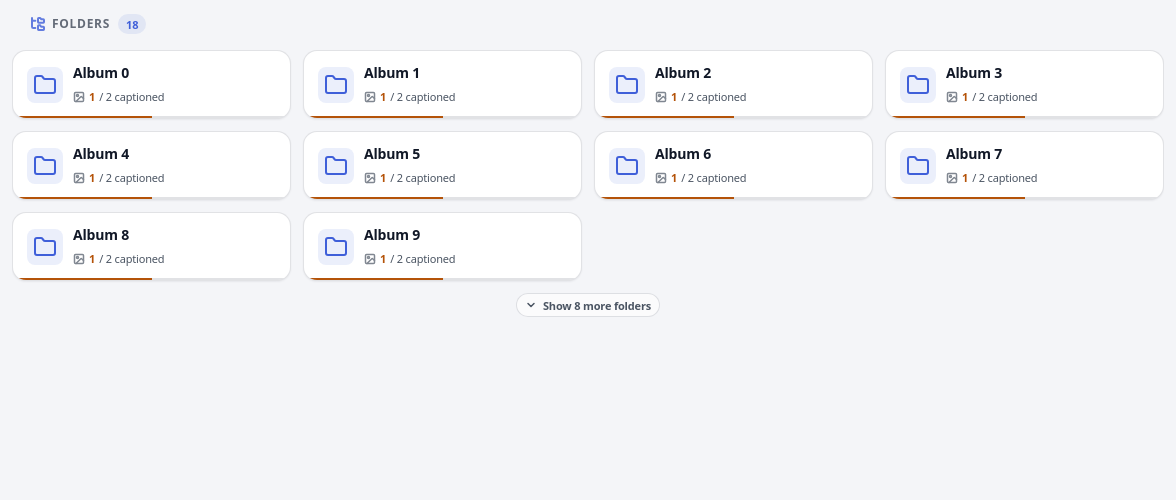
FolderGrid expansion memory › still expands for a caller that names no folder
The image size is (1176, 500).
Click the button "Show 8 more folders": (588, 305) [516, 293, 660, 317]
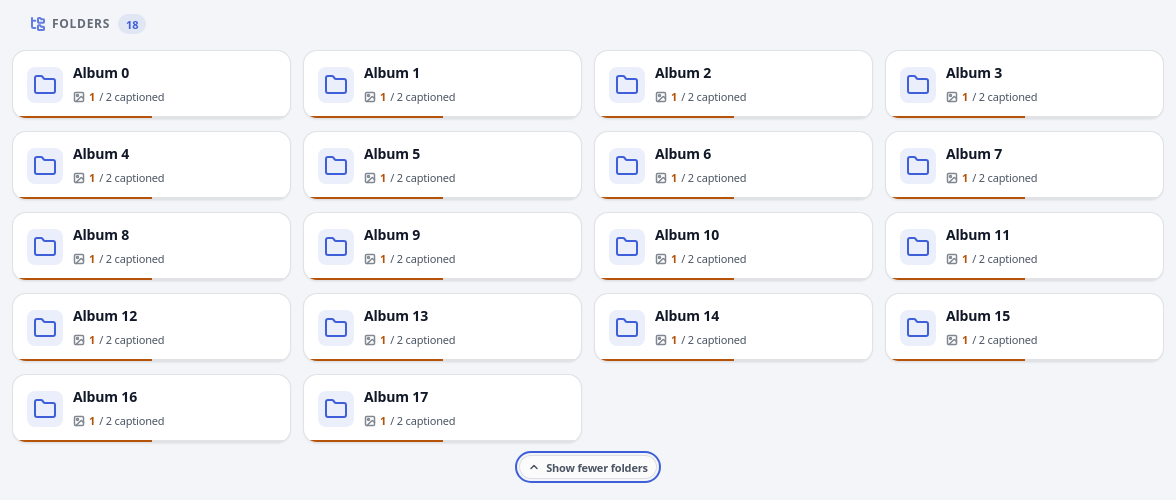
Now the number of buttons with class "folder-card" is 18
